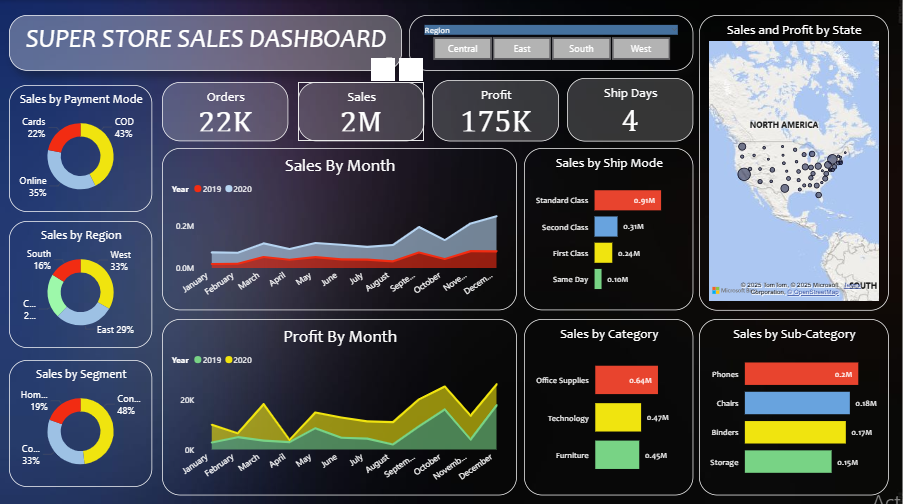

What the dashboard file says about the page in this screenshot:
{"tool":"powerbi","page":{"name":"Sales Performance Dashboard","canvas":[1280,720],"ordinal":0},"visuals":[{"type":"barChart","title":" Sales by Category","fields":{"Y":["Sum(SuperStore_Sales_Dataset.Sales)"],"Category":["SuperStore_Sales_Dataset.Category"]},"box":[744.3,451.4,240,250],"z":0},{"type":"barChart","title":" Sales by Sub-Category","fields":{"Y":["Sum(SuperStore_Sales_Dataset.Sales)"],"Category":["SuperStore_Sales_Dataset.Sub-Category"]},"box":[991.4,451.4,268.6,250],"z":1000},{"type":"barChart","title":" Sales by Ship Mode","fields":{"Y":["Sum(SuperStore_Sales_Dataset.Sales)"],"Category":["SuperStore_Sales_Dataset.Ship Mode"]},"box":[744.3,210,240,230],"z":2000},{"type":"stackedAreaChart","title":"Sales By Month","fields":{"Y":["Sum(SuperStore_Sales_Dataset.Sales)"],"Category":["SuperStore_Sales_Dataset.Order Date.Variation.Date Hierarchy.Month","SuperStore_Sales_Dataset.Order Date.Variation.Date Hierarchy.Day"],"Series":["SuperStore_Sales_Dataset.Order Date.Variation.Date Hierarchy.Year"]},"box":[231.4,210,502.9,230],"z":3000},{"type":"stackedAreaChart","title":" Profit By Month","fields":{"Category":["SuperStore_Sales_Dataset.Order Date.Variation.Date Hierarchy.Month","SuperStore_Sales_Dataset.Order Date.Variation.Date Hierarchy.Day"],"Series":["SuperStore_Sales_Dataset.Order Date.Variation.Date Hierarchy.Year"],"Y":["Sum(SuperStore_Sales_Dataset.Profit)"]},"box":[231.4,451.4,502.9,250],"z":4000},{"type":"map","title":" Sales and Profit by State","fields":{"Category":["SuperStore_Sales_Dataset.State"],"Size":["Sum(SuperStore_Sales_Dataset.Sales)"]},"box":[991.4,21.4,268.6,418.6],"z":5000},{"type":"donutChart","title":" Sales by Segment","fields":{"Category":["SuperStore_Sales_Dataset.Segment"],"Y":["Sum(SuperStore_Sales_Dataset.Sales)"]},"box":[14.3,510,202.9,180],"z":6000},{"type":"donutChart","title":"Sales by Payment Mode","fields":{"Category":["SuperStore_Sales_Dataset.Payment Mode"],"Y":["Sum(SuperStore_Sales_Dataset.Sales)"]},"box":[14.3,120,202.9,180],"z":7000},{"type":"slicer","fields":{"Values":["SuperStore_Sales_Dataset.Region"]},"box":[581.4,21.4,402.9,78.6],"z":8000},{"type":"textbox","title":"SUPER STORE SALES DASHBOARD","box":[14.3,21.4,557.1,78.6],"z":9000},{"type":"card","title":"Sales","fields":{"Values":["Sum(SuperStore_Sales_Dataset.Sales)"]},"box":[424.3,115.7,178.6,84.3],"z":10000},{"type":"card","title":"Orders","fields":{"Values":["Sum(SuperStore_Sales_Dataset.Quantity)"]},"box":[231.4,115.7,178.6,84.3],"z":11000},{"type":"card","title":"Profit","fields":{"Values":["Sum(SuperStore_Sales_Dataset.Profit)"]},"box":[614.3,112.9,180,87.1],"z":12000},{"type":"card","title":"Ship Days","fields":{"Values":["Avg(SuperStore_Sales_Dataset.AvgDelivery)"]},"box":[805.7,110,178.6,90],"z":13000},{"type":"donutChart","title":" Sales by Region","fields":{"Y":["Sum(SuperStore_Sales_Dataset.Sales)"],"Category":["SuperStore_Sales_Dataset.Region"]},"box":[14.3,312.9,202.9,180],"z":14000}]}

Visuals, with their boxes in screenshot pixels (x1, y1, x2, y2), scaled from the page's 1280x720 canvas onto the 903x504 screenshot:
" Sales by Category" barChart: rect(525, 316, 694, 491)
" Sales by Sub-Category" barChart: rect(699, 316, 889, 491)
" Sales by Ship Mode" barChart: rect(525, 147, 694, 308)
"Sales By Month" stackedAreaChart: rect(163, 147, 518, 308)
" Profit By Month" stackedAreaChart: rect(163, 316, 518, 491)
" Sales and Profit by State" map: rect(699, 15, 889, 308)
" Sales by Segment" donutChart: rect(10, 357, 153, 483)
"Sales by Payment Mode" donutChart: rect(10, 84, 153, 210)
slicer - SuperStore_Sales_Dataset.Region: rect(410, 15, 694, 70)
"SUPER STORE SALES DASHBOARD" textbox: rect(10, 15, 403, 70)
"Sales" card: rect(299, 81, 425, 140)
"Orders" card: rect(163, 81, 289, 140)
"Profit" card: rect(433, 79, 560, 140)
"Ship Days" card: rect(568, 77, 694, 140)
" Sales by Region" donutChart: rect(10, 219, 153, 345)
